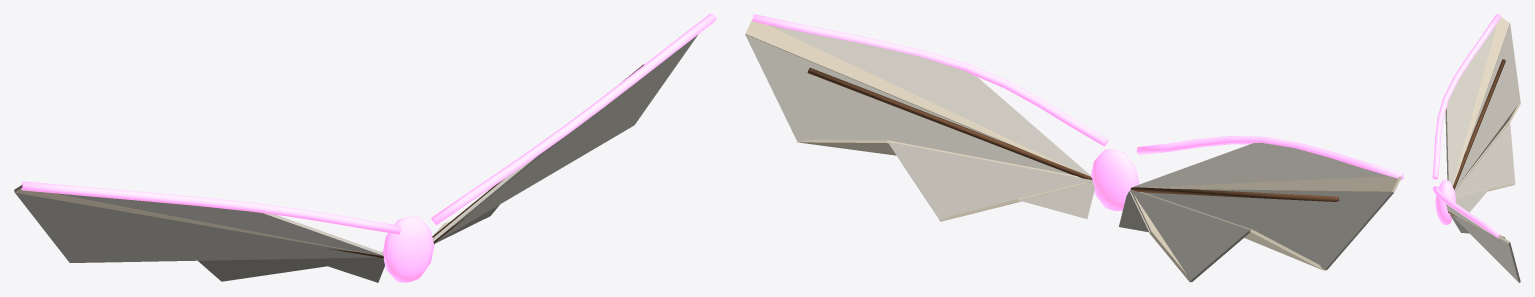
File: glider.glb
3 renders of one model, left to right at view 1: azimuth 30°, elevation 25°; view 2: azimuth 150°, elevation 25°; view 3: azimuth 270°, elevation 25°, orthographic. The views are drawn at different scales.
Visible parts, largest first — view 1: glider:mesh; view 2: glider:mesh; view 3: glider:mesh.
Part boxes in pixels (left/top/right/bottom): glider:mesh: left=14, top=14, right=716, bottom=282; glider:mesh: left=745, top=14, right=1403, bottom=282; glider:mesh: left=1432, top=14, right=1520, bottom=282.
Size of the model in its own units: 1.97 by 0.4348 by 0.3353.
